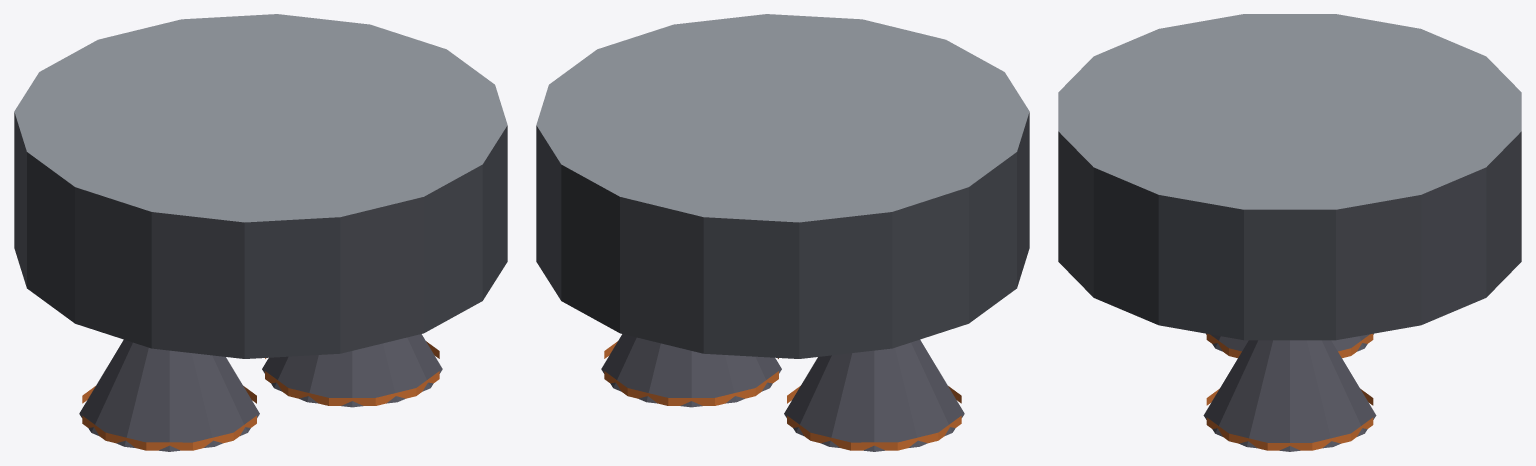
The model's file is ship_engine.obj.
The picture shows the model from 3 angles, left to right: view 1: azimuth 30°, elevation 25°; view 2: azimuth 150°, elevation 25°; view 3: azimuth 270°, elevation 25°; orthographic projection. The views are drawn at different scales.
Size of the model in its own units: 1.61 by 1 by 1.61.
